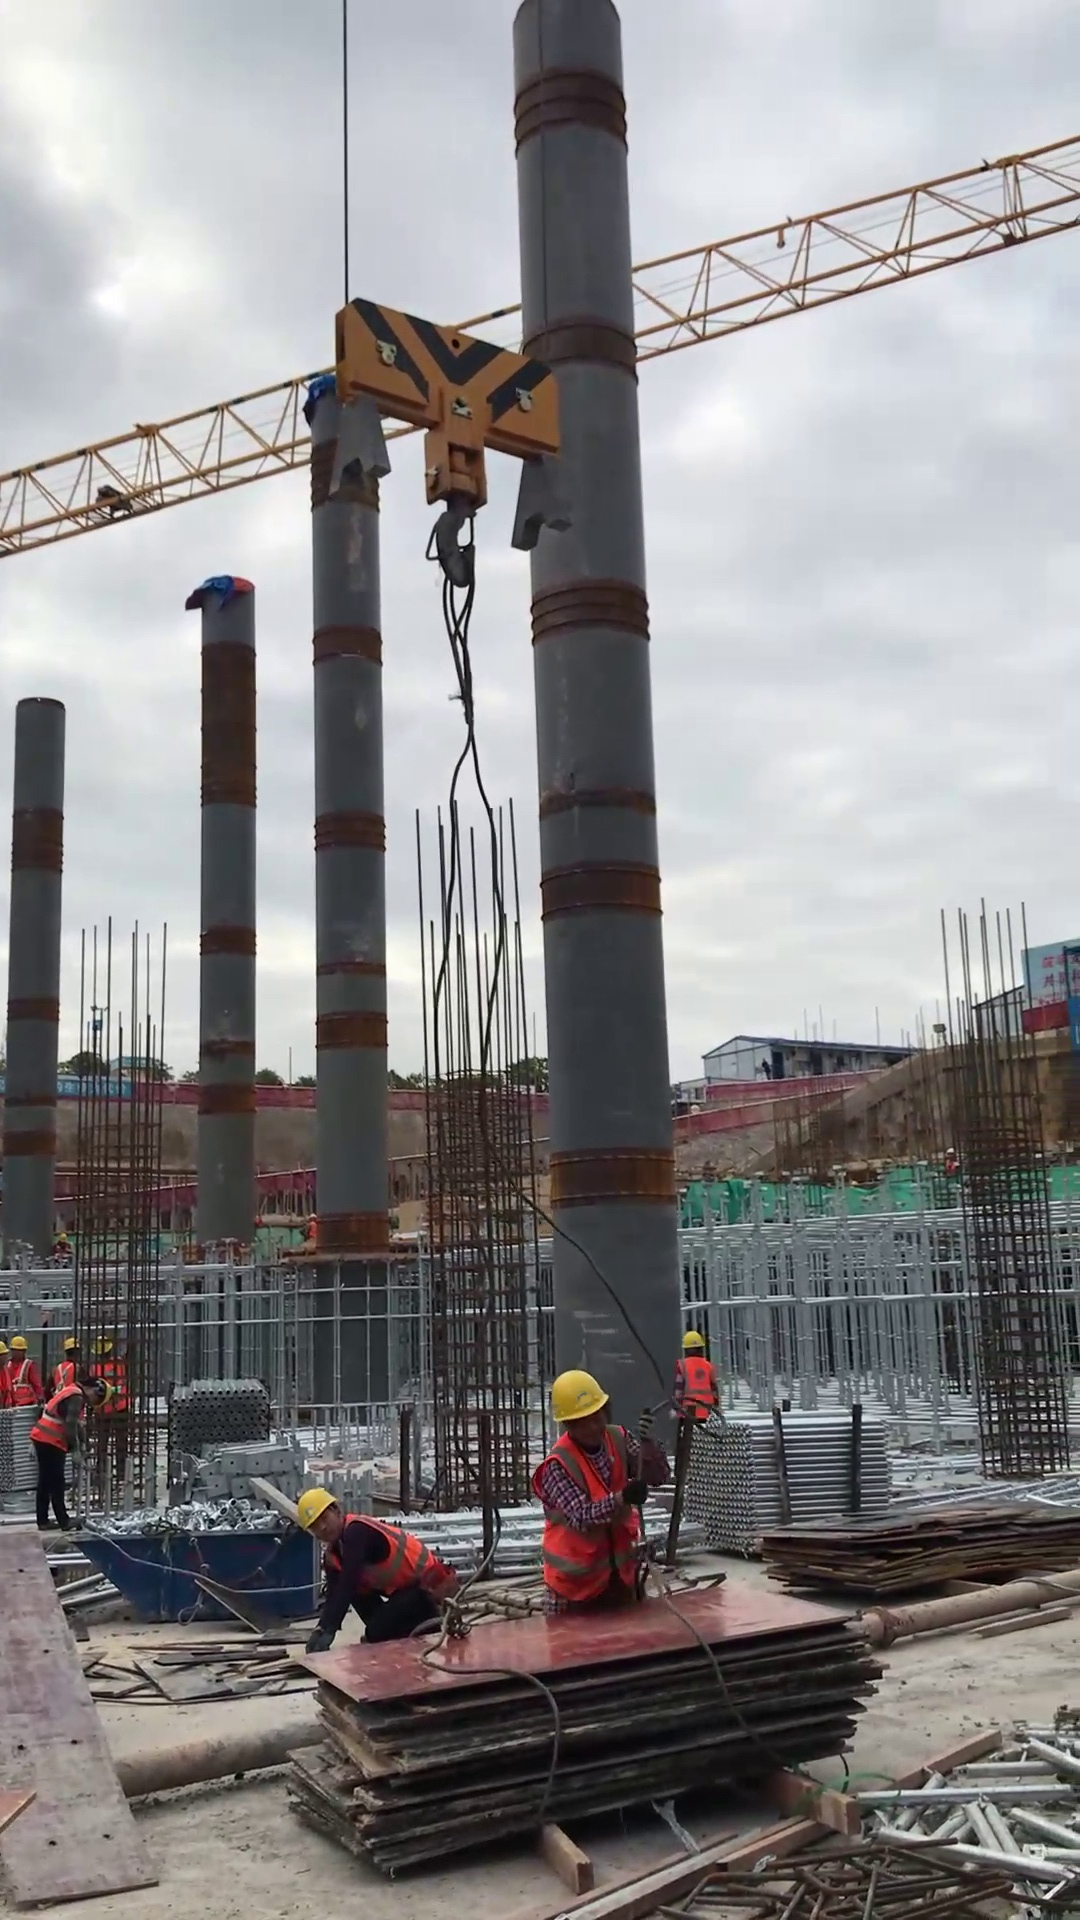helmet: (540, 1367, 611, 1427), (293, 1483, 342, 1535), (676, 1324, 716, 1357), (56, 1333, 79, 1357), (6, 1333, 32, 1356), (98, 1380, 115, 1411)
person: (527, 1360, 672, 1626), (284, 1482, 467, 1665), (22, 1376, 126, 1540), (664, 1321, 728, 1443), (1, 1328, 43, 1412), (47, 1330, 90, 1402)
vest: (529, 1423, 650, 1610), (325, 1512, 462, 1607), (25, 1383, 87, 1455), (672, 1352, 721, 1426), (5, 1359, 36, 1399), (50, 1354, 78, 1396)
